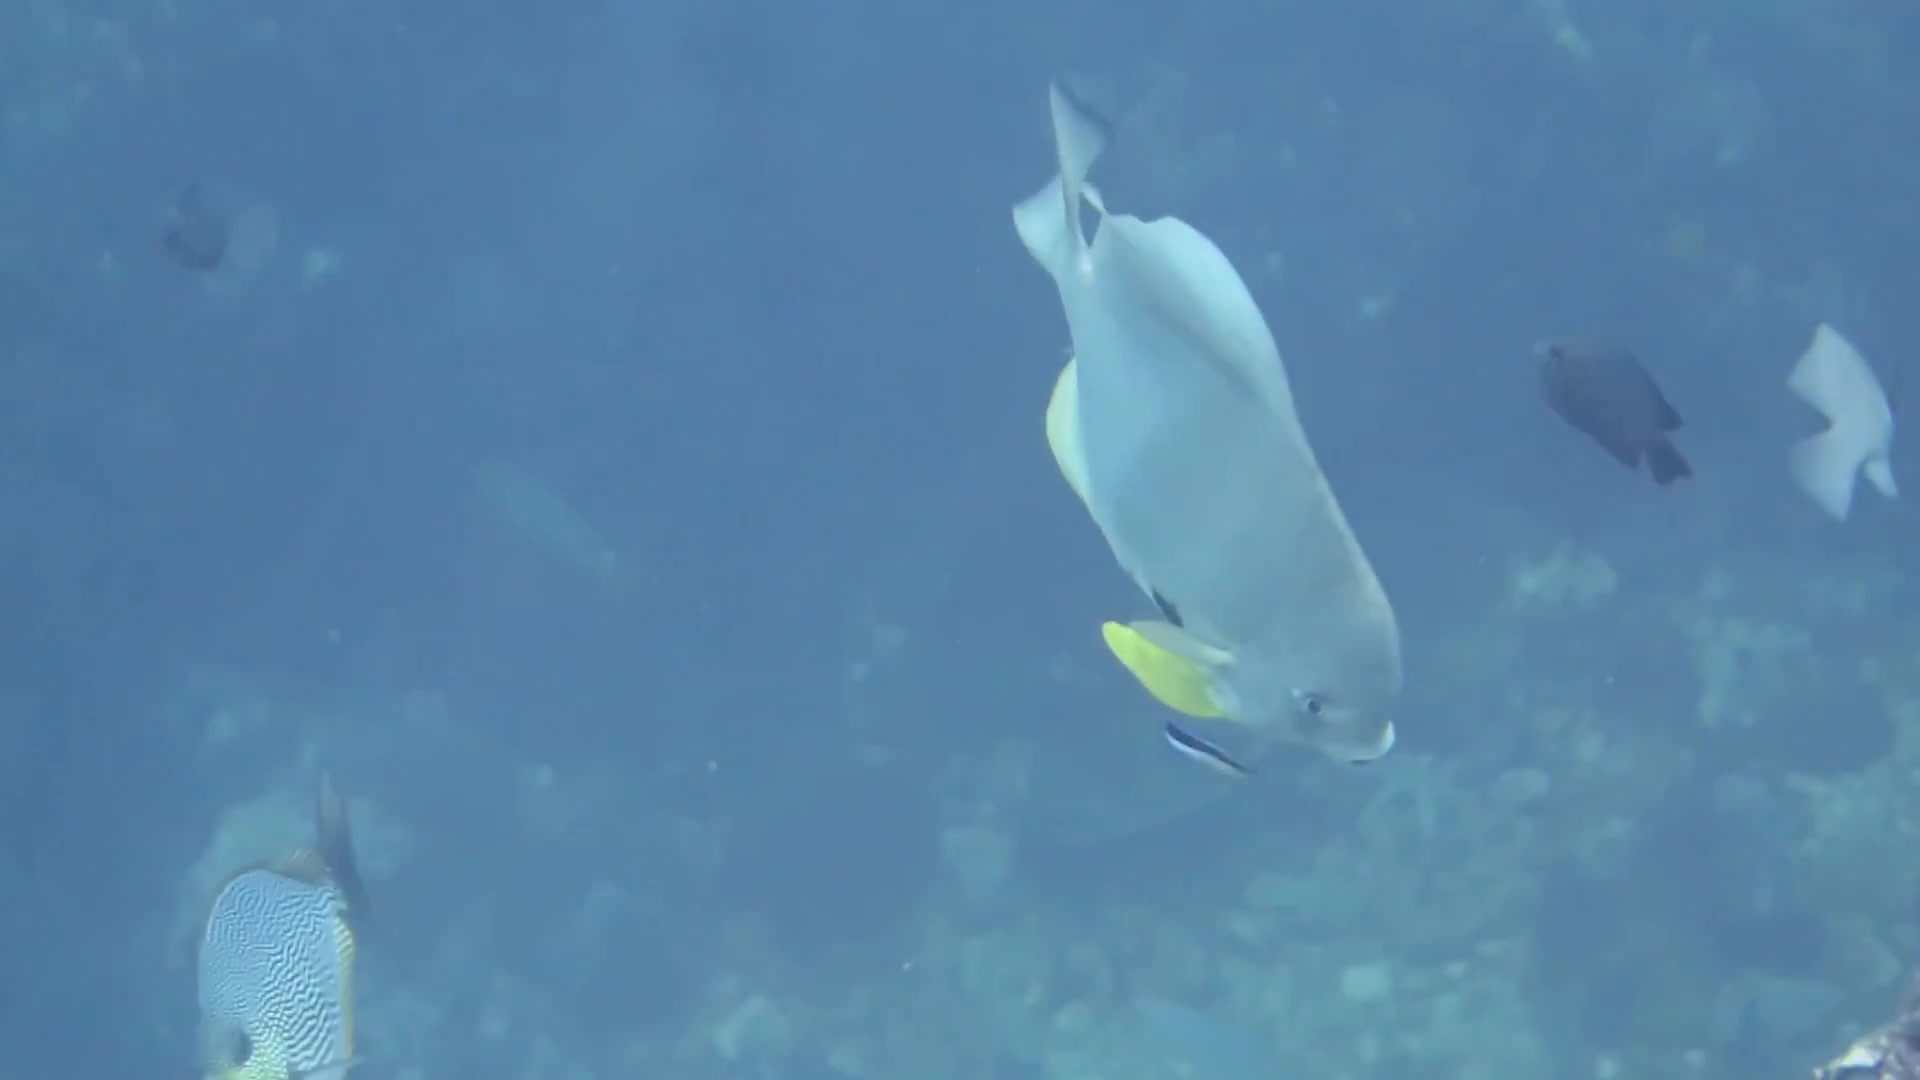Platax teira: (868, 71, 1505, 836)
